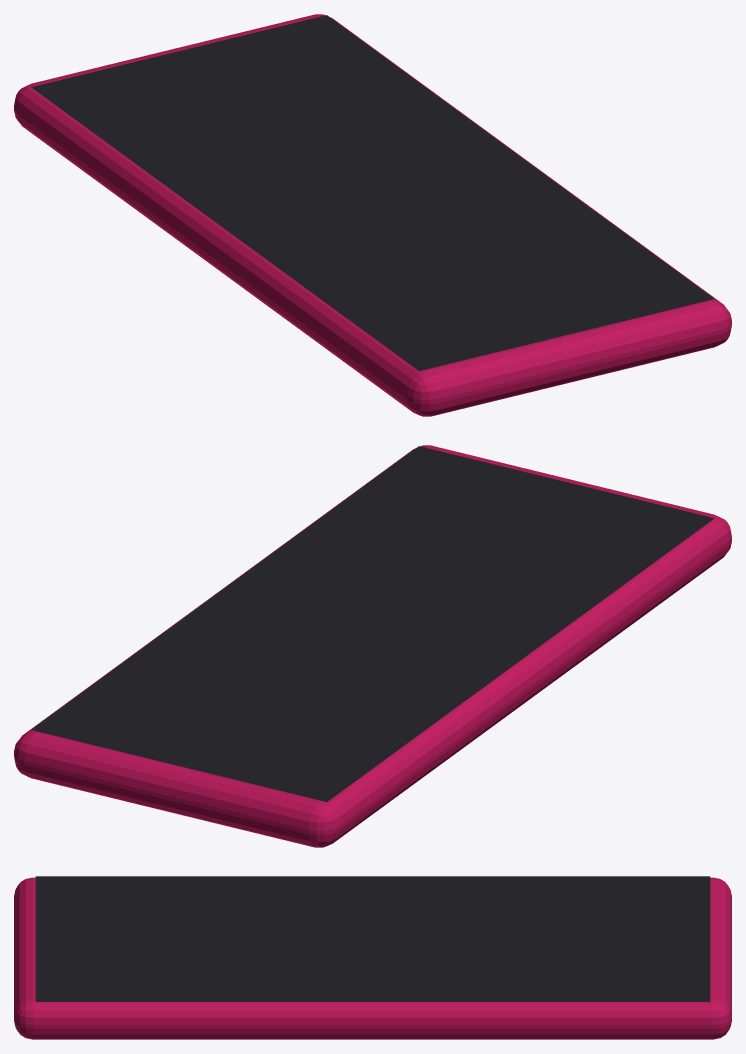
Rendered from Phone_883.glb.
3 renders of one model, top to bottom at view 1: azimuth 30°, elevation 25°; view 2: azimuth 150°, elevation 25°; view 3: azimuth 270°, elevation 25°, orthographic. The views are drawn at different scales.
Parts seen in each view (by area): view 1: Phone_Screen, Phone_Body; view 2: Phone_Screen, Phone_Body; view 3: Phone_Screen, Phone_Body.
Boxes of the visible parts, x1,y1,x2,y2 form: Phone_Screen: (31,15,714,370); Phone_Body: (14,14,731,416); Phone_Screen: (31,446,714,801); Phone_Body: (14,445,731,847); Phone_Screen: (35,876,710,1001); Phone_Body: (14,877,731,1039).
Size of the model in its own units: 0.076 by 0.01 by 0.1689.
